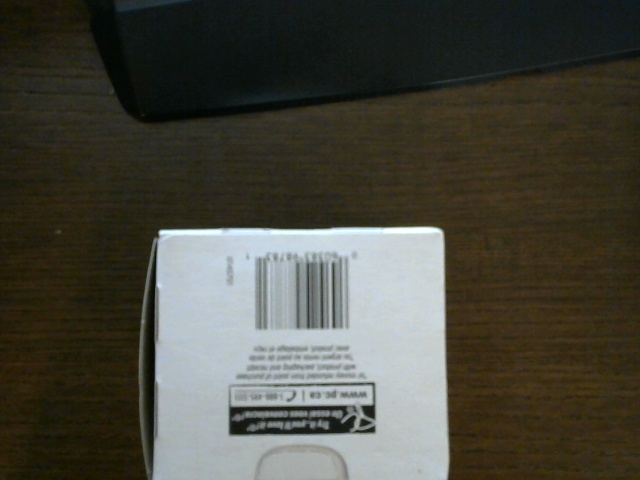Barcode: (253, 251, 351, 332)
